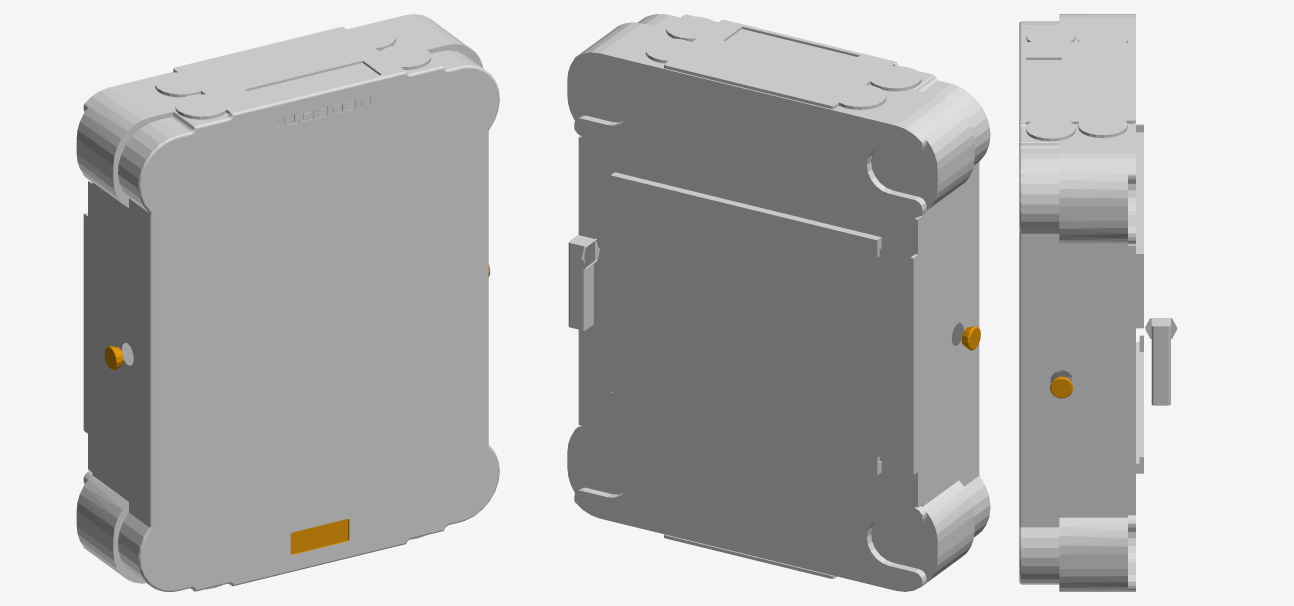
Rendered from MPO-700-BODY.obj.
3 views of the same model, side by side, from view 1: azimuth 30°, elevation 25°; view 2: azimuth 150°, elevation 25°; view 3: azimuth 270°, elevation 25° (orthographic). The views are drawn at different scales.
Bounding box in the file's own units: 505 × 630 × 326.
Materials: 1 (1 with a texture image).
